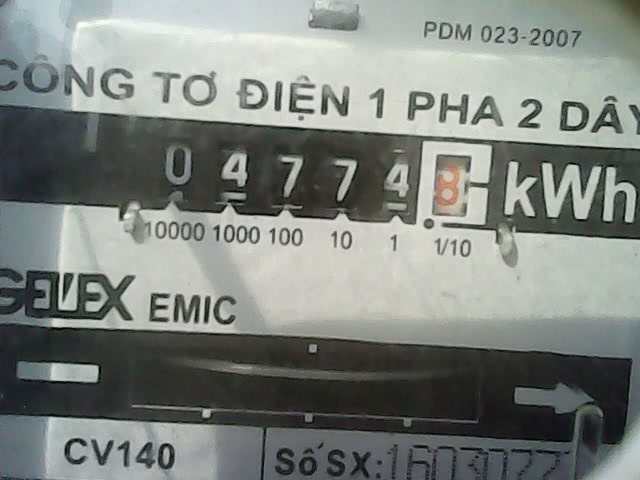phy_plate: (138, 114, 499, 232)
